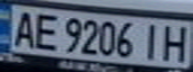0: (96, 18, 121, 57)
2: (78, 16, 100, 56)
6: (115, 19, 139, 60)
9: (60, 15, 84, 54)
A: (6, 7, 39, 48)
E: (30, 10, 63, 52)
H: (157, 21, 190, 63)
I: (139, 20, 166, 61)
